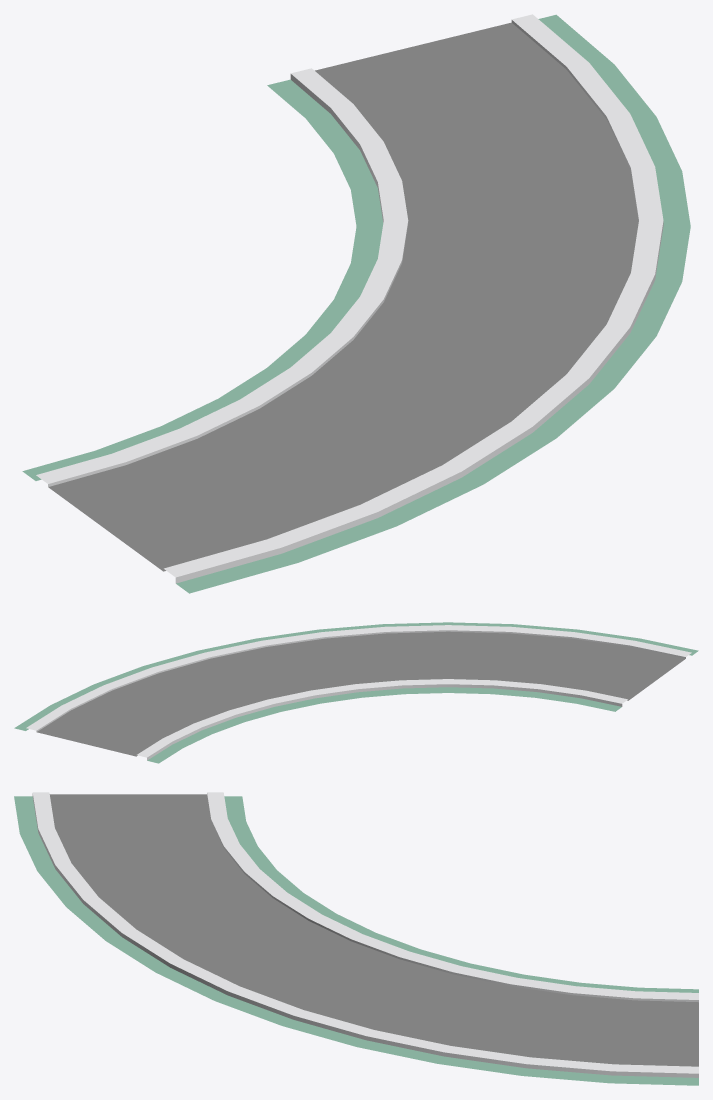
Rendered from road-corner-larger.glb.
3 renders of one model, top to bottom at view 1: azimuth 30°, elevation 25°; view 2: azimuth 150°, elevation 25°; view 3: azimuth 270°, elevation 25°, orthographic. The views are drawn at different scales.
Parts seen in each view (by area): view 1: roadCornerLarger; view 2: roadCornerLarger; view 3: roadCornerLarger.
Boxes of the visible parts, x1,y1,x2,y2 form: roadCornerLarger: (22, 14, 690, 593); roadCornerLarger: (14, 622, 698, 763); roadCornerLarger: (14, 792, 698, 1085).
Size of the model in its own units: 18 by 0.1209 by 18.
